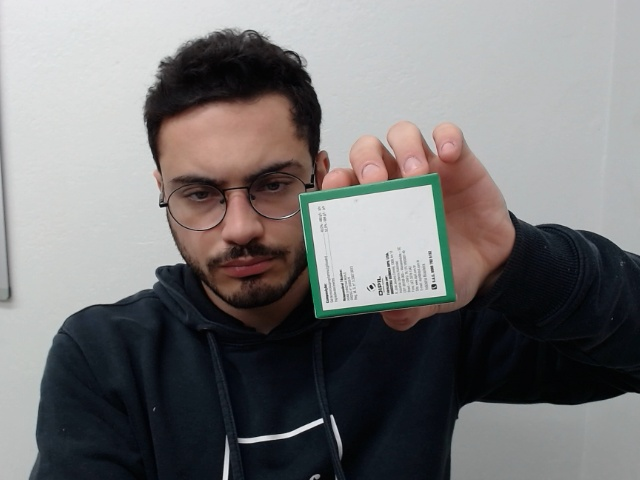divisor: (295, 171, 466, 324)
